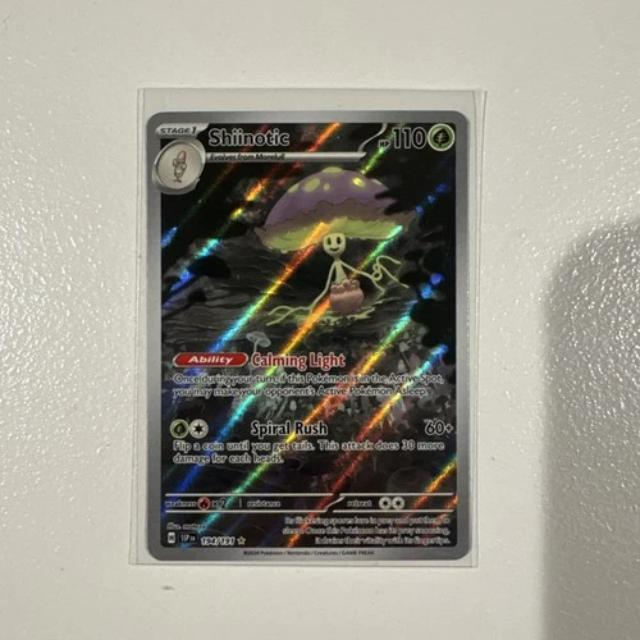Card: (142, 105, 474, 564)
Name: (200, 120, 292, 148)
